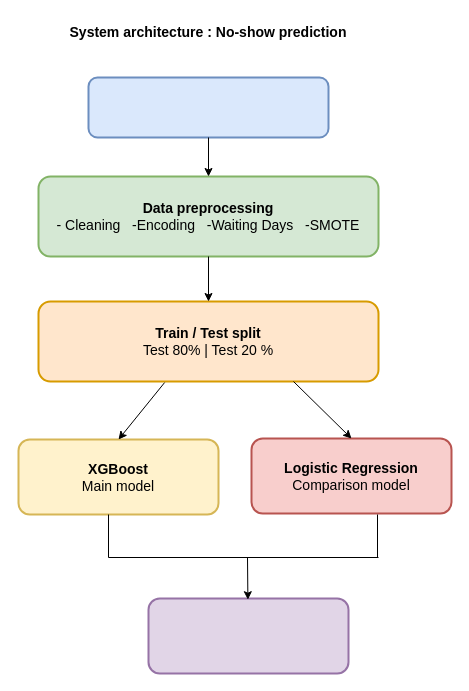
Image size: 469x691. Some labels were removed from this diagram. Each missing label, with the centre of its shape:
Data source Kaggle: KaggleV2-May-2016.csv: [208,107]
Evaluation - Accuracy - Recall - F1 - ROC-AUC - Feature Importance: [248,635]
